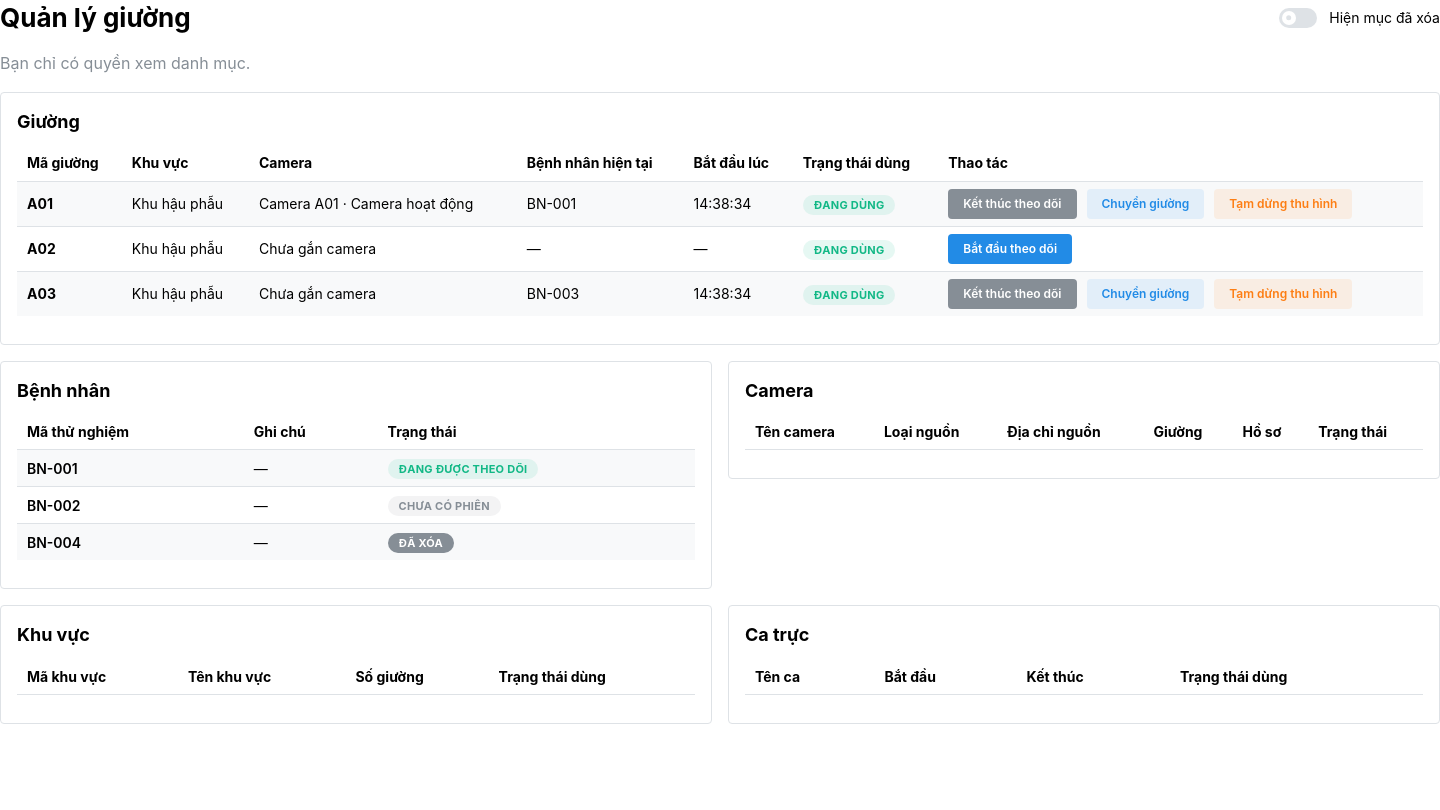
Test case: StartSessionDialog › shows the API message on 409
Click the button "Bắt đầu theo dõi".
click(1010, 249)  # box [948,234,1072,264]
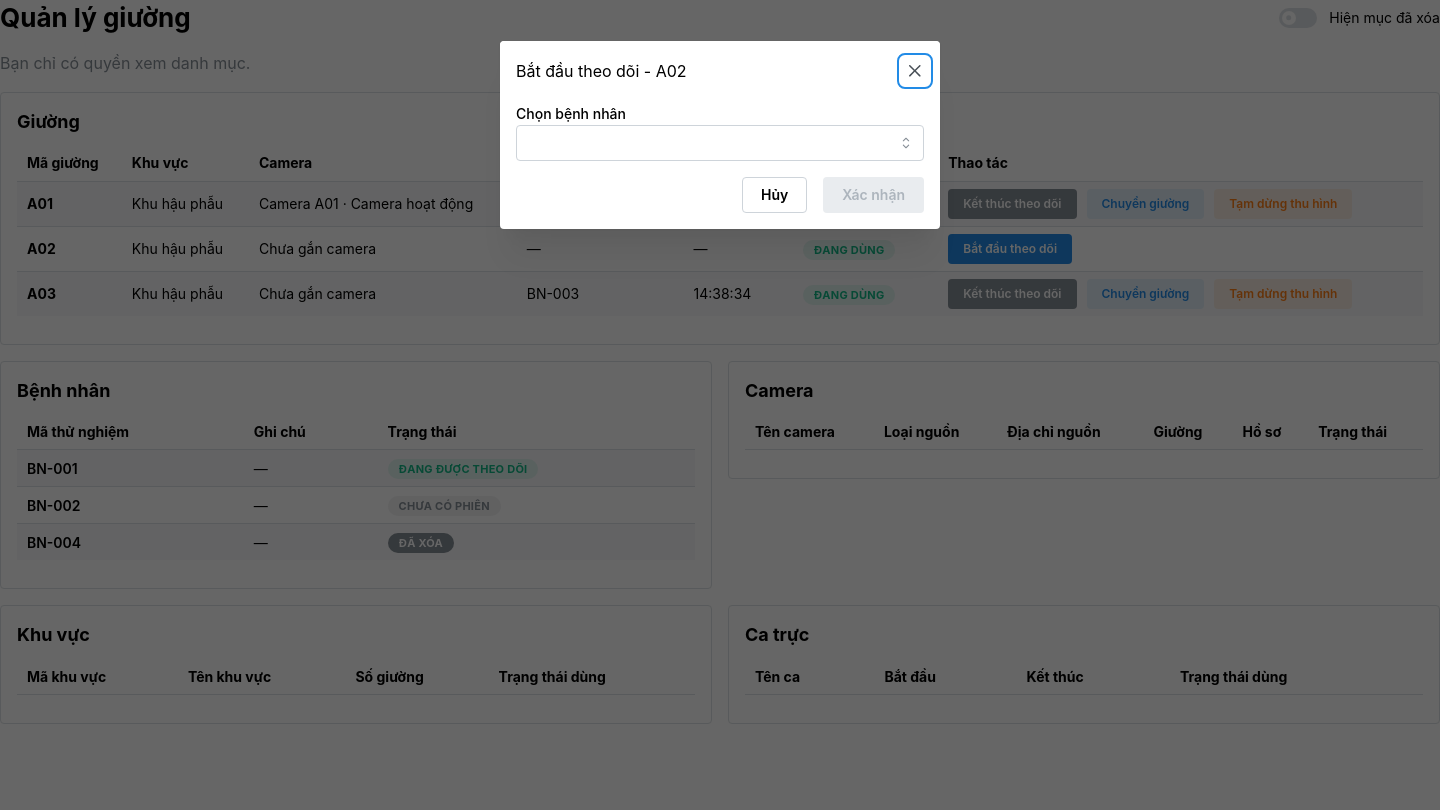
Click the field labelled "Chọn bệnh nhân".
click(720, 143)  # box [516,125,924,161]
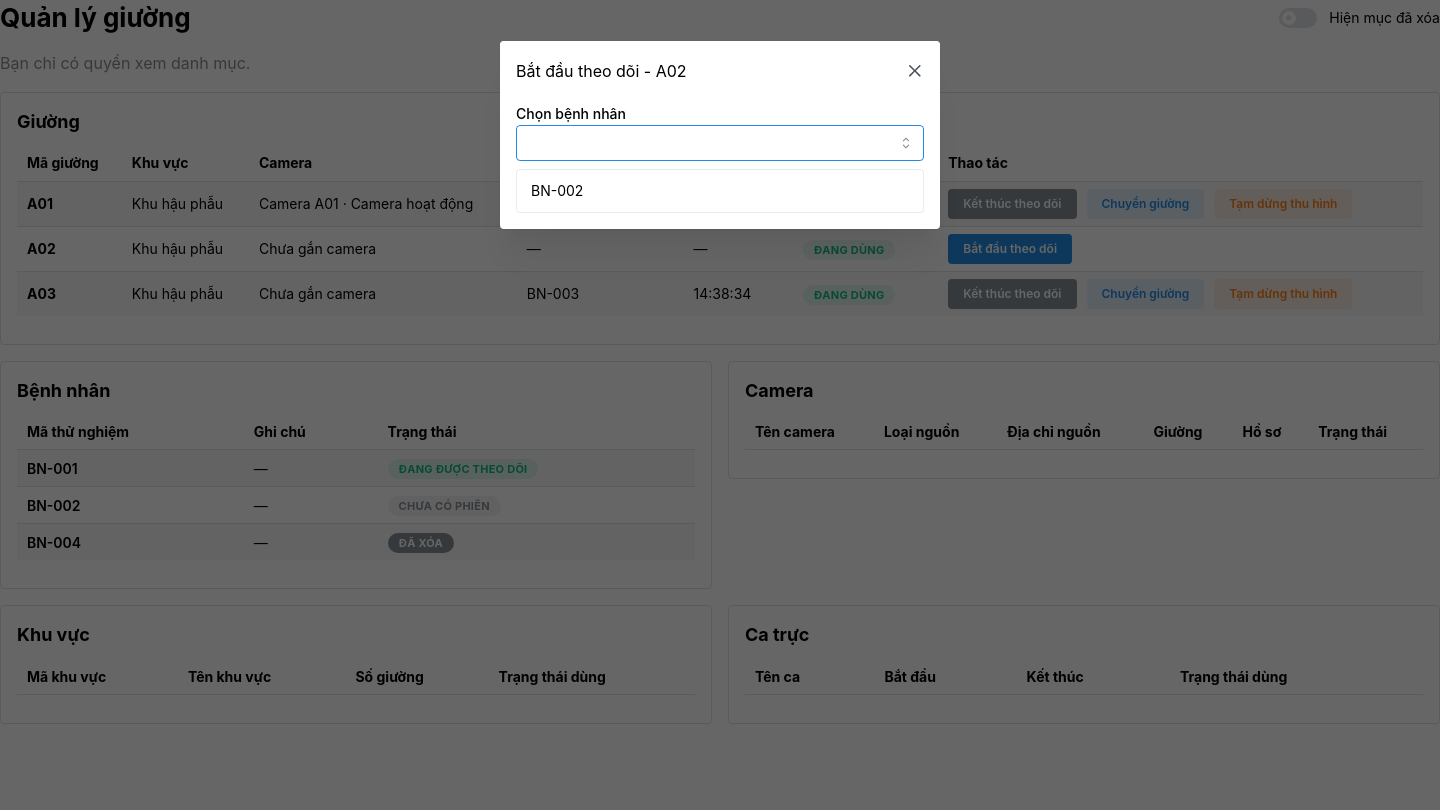
Click the option "BN-002".
click(557, 191)  # box [531,182,583,199]
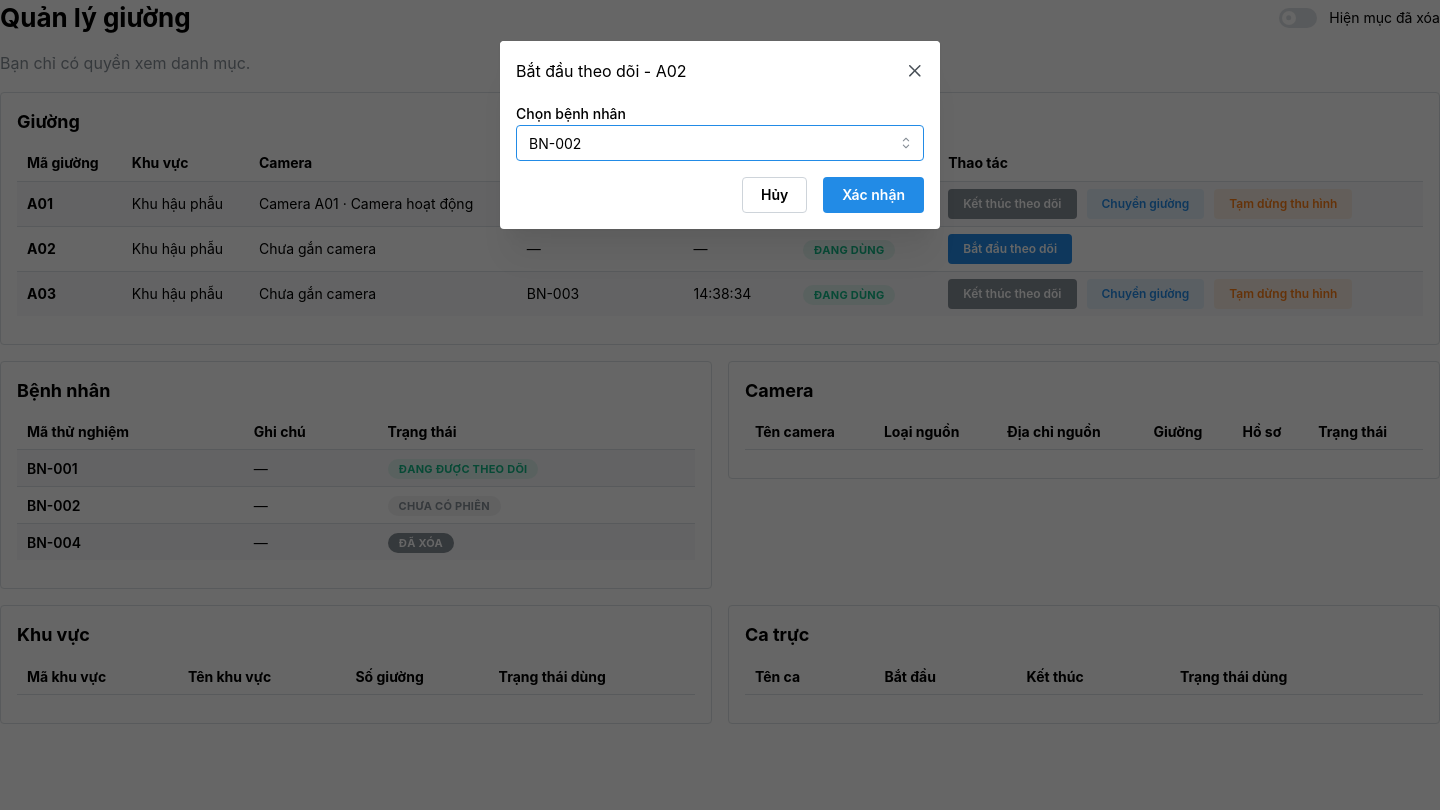
Click the button "Xác nhận".
click(874, 195)  # box [823,177,924,213]
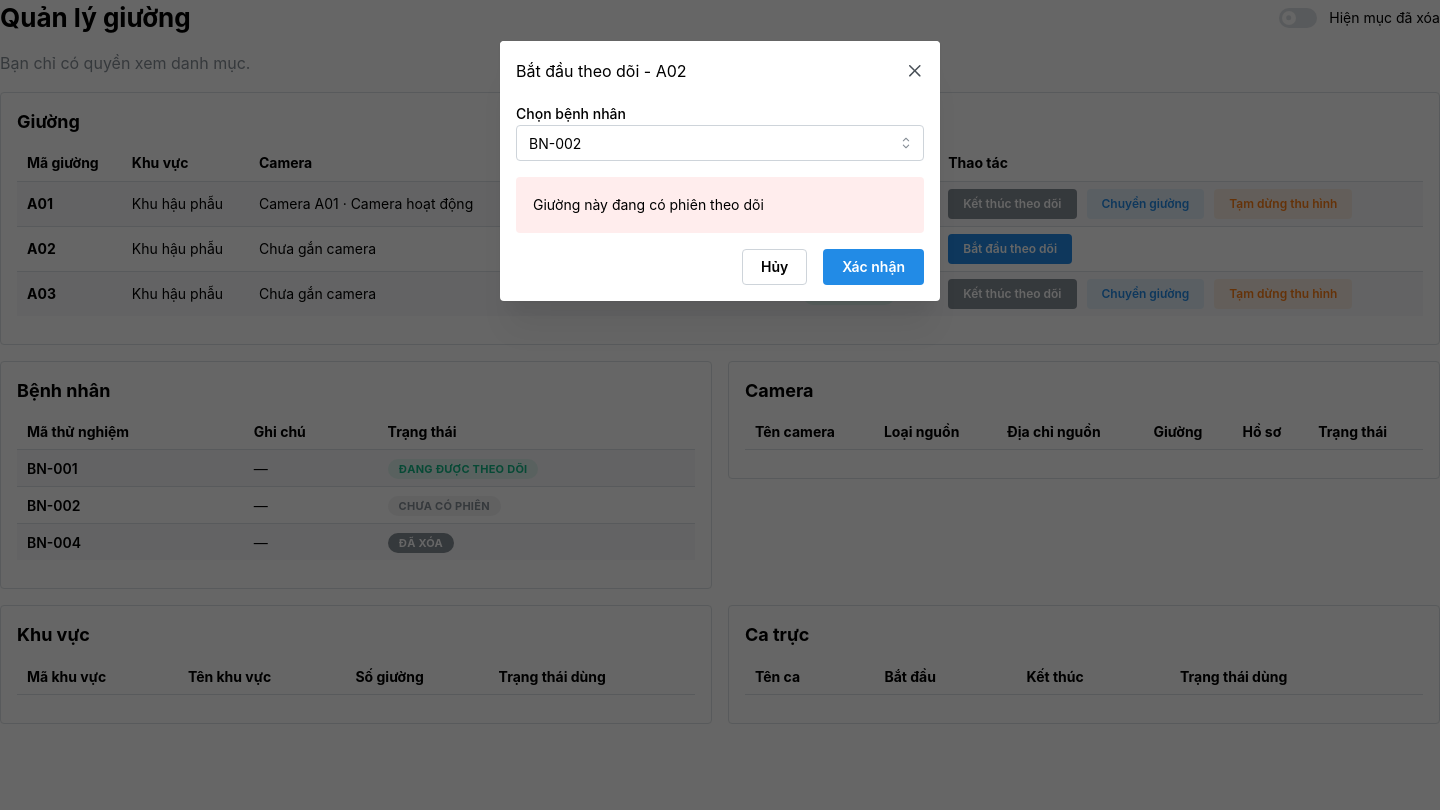
Expected: the text "Giường này đang có phiên theo dõi" is shown, [533,196,764,213]
